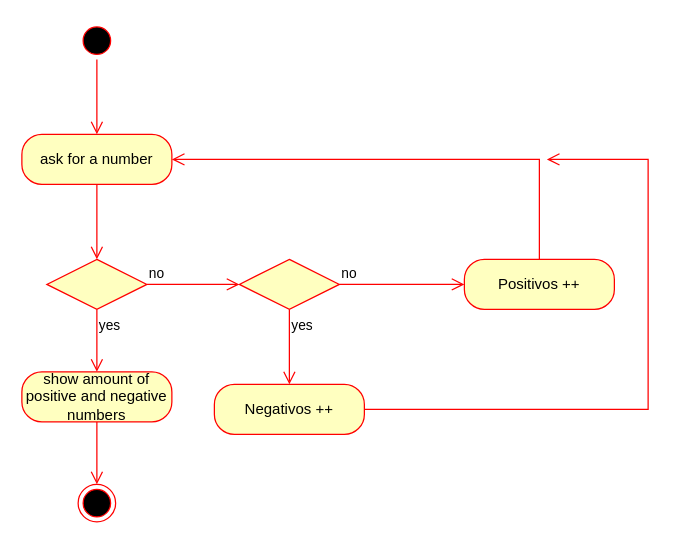
The diagram is 683 pixels wide and 544 high, and some of its shapes have lost their labels. Each missing label, with the centre of its shape:
Condition: (x=288, y=283)
is 0: (x=96, y=283)
